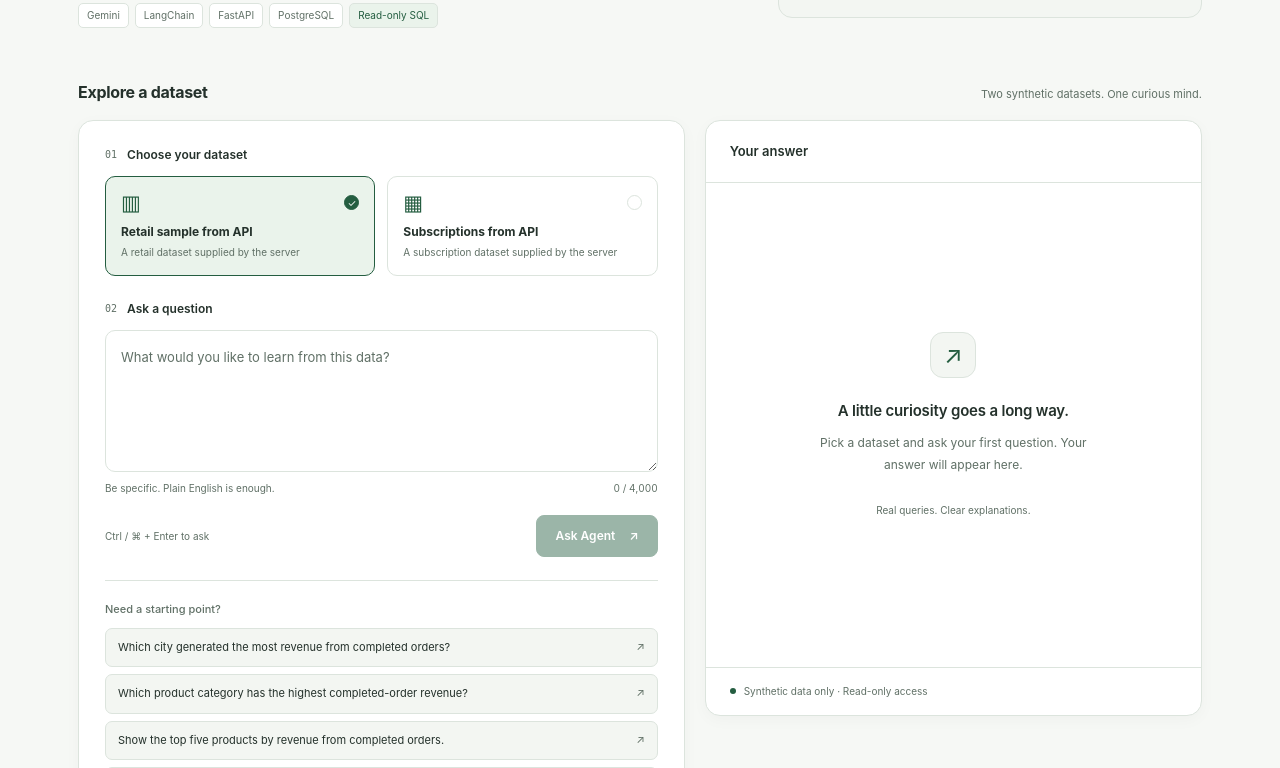
Test: public analyst workspace › handles HTTP 400 without exposing raw diagnostics or secrets
The width and height of the screenshot is (1280, 768).
(page scrolled)
Expected: the radio button labelled "Retail sample" is enabled, [105, 176, 375, 276]
Type "Count records" into the text box labelled "02 Ask a question".
click(381, 401); type("Count records")  # box [105, 330, 658, 472]
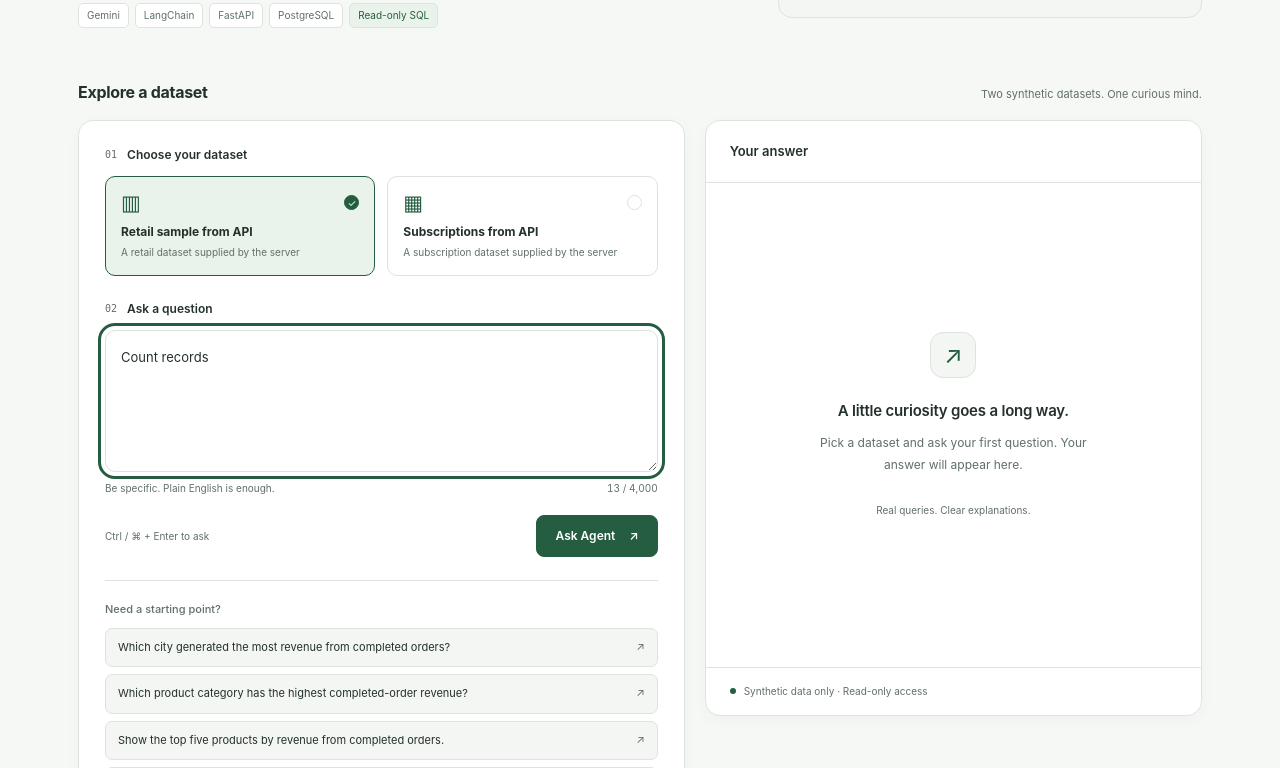
Click the button "Ask Agent ↗".
click(597, 536)  # box [536, 515, 658, 557]
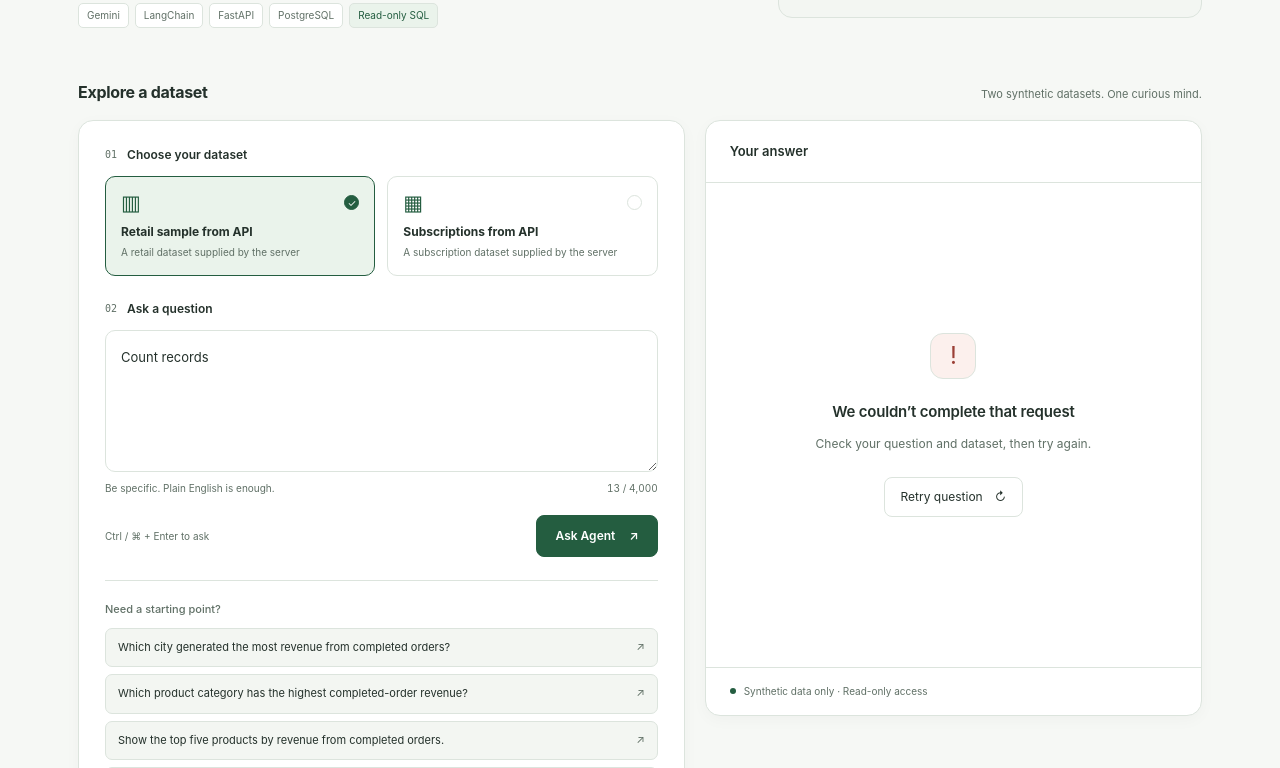
Result: the message shows "We couldn’t complete that request" at [832, 402, 1075, 421]
Result: the button "Retry question ↻" is enabled at [884, 477, 1023, 517]
